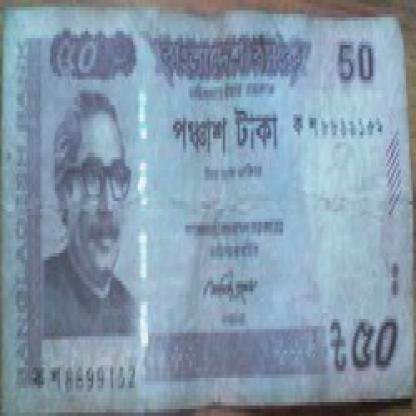Fifty taka: (341, 308, 404, 385), (53, 27, 116, 80)
